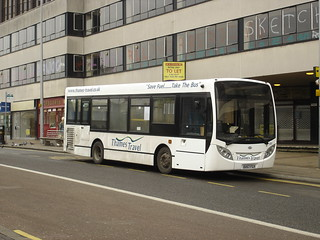bus: (63, 77, 277, 176)
